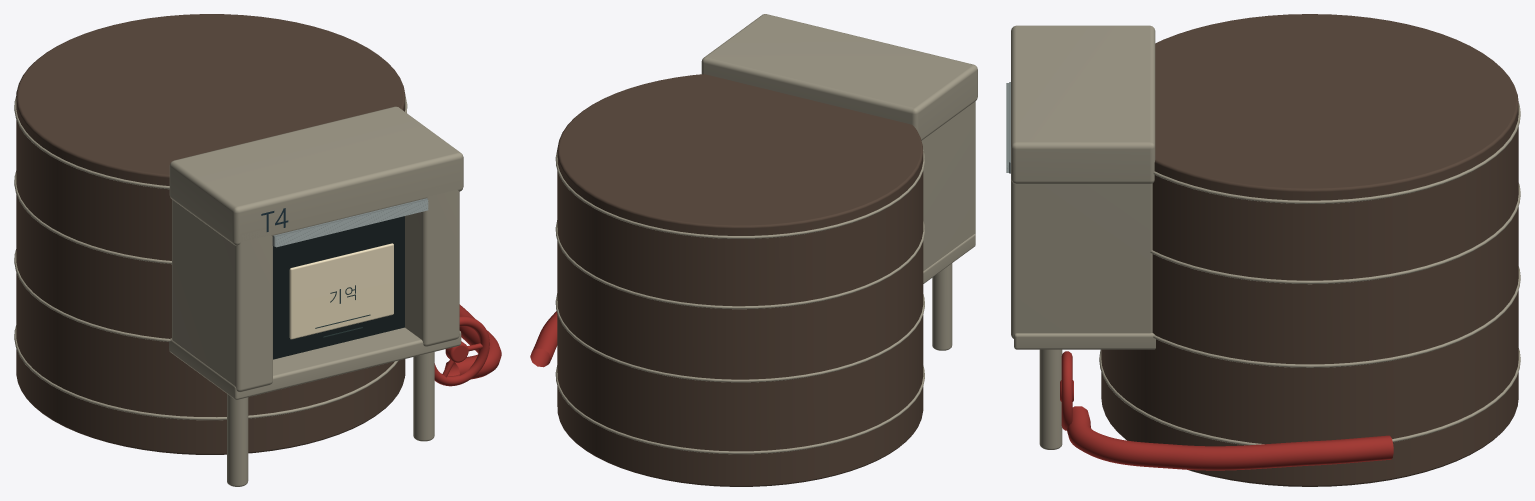
3 renders of one model, left to right at view 1: azimuth 30°, elevation 25°; view 2: azimuth 150°, elevation 25°; view 3: azimuth 270°, elevation 25°, orthographic. The views are drawn at different scales.
Parts seen in each view (by area): view 1: Preserved cylindrical tank, Lintel, Projecting concrete side, Projecting concrete side.001, Memory card, Back of door recess, Entrance slab, Column beneath projecting entry, Column beneath projecting entry.001, Tank weld seam, Red conduit motif, Painted handwheel (+3 smaller); view 2: Preserved cylindrical tank, Lintel, Projecting concrete side, Column beneath projecting entry, Tank weld seam, Tank weld seam.001, Tank weld seam.002, Tank weld seam.003, Red conduit motif, Entrance slab; view 3: Preserved cylindrical tank, Lintel, Projecting concrete side.001, Red conduit motif, Entrance slab, Column beneath projecting entry.001, Tank weld seam.002, Tank weld seam.001, Tank weld seam.003, Tank weld seam, Painted handwheel.
Boxes of the visible parts, <box> form: Preserved cylindrical tank: <box>16,14,405,454</box>; Lintel: <box>169,106,463,245</box>; Projecting concrete side: <box>172,199,272,392</box>; Projecting concrete side.001: <box>405,187,459,346</box>; Memory card: <box>289,243,393,339</box>; Back of door recess: <box>273,216,404,359</box>; Entrance slab: <box>169,327,461,399</box>; Column beneath projecting entry: <box>227,394,248,486</box>; Column beneath projecting entry.001: <box>413,352,434,441</box>; Tank weld seam: <box>14,325,398,420</box>; Red conduit motif: <box>444,304,501,379</box>; Painted handwheel: <box>434,316,489,386</box>; Preserved cylindrical tank: <box>557,74,923,486</box>; Lintel: <box>701,14,977,140</box>; Projecting concrete side: <box>921,101,975,270</box>; Column beneath projecting entry: <box>932,263,952,350</box>; Tank weld seam: <box>555,365,924,454</box>; Tank weld seam.001: <box>555,293,924,382</box>; Tank weld seam.002: <box>555,220,924,309</box>; Tank weld seam.003: <box>555,149,924,238</box>; Red conduit motif: <box>530,311,557,367</box>; Entrance slab: <box>923,234,975,283</box>; Preserved cylindrical tank: <box>1101,14,1518,486</box>; Lintel: <box>1011,25,1155,184</box>; Projecting concrete side.001: <box>1011,180,1152,338</box>; Red conduit motif: <box>1066,406,1393,470</box>; Entrance slab: <box>1014,333,1155,349</box>; Column beneath projecting entry.001: <box>1039,349,1062,449</box>; Tank weld seam.002: <box>1150,183,1520,284</box>; Tank weld seam.001: <box>1153,266,1520,367</box>; Tank weld seam.003: <box>1153,103,1520,203</box>; Tank weld seam: <box>1099,348,1520,445</box>; Painted handwheel: <box>1061,351,1072,430</box>.
Bounding box in the file's own units: 0.2753 × 0.2038 × 0.3012.
